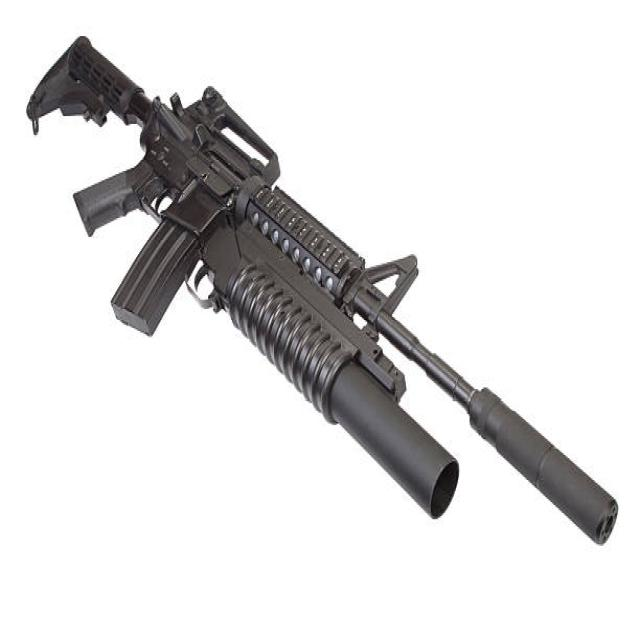rifle: (19, 26, 623, 564)
